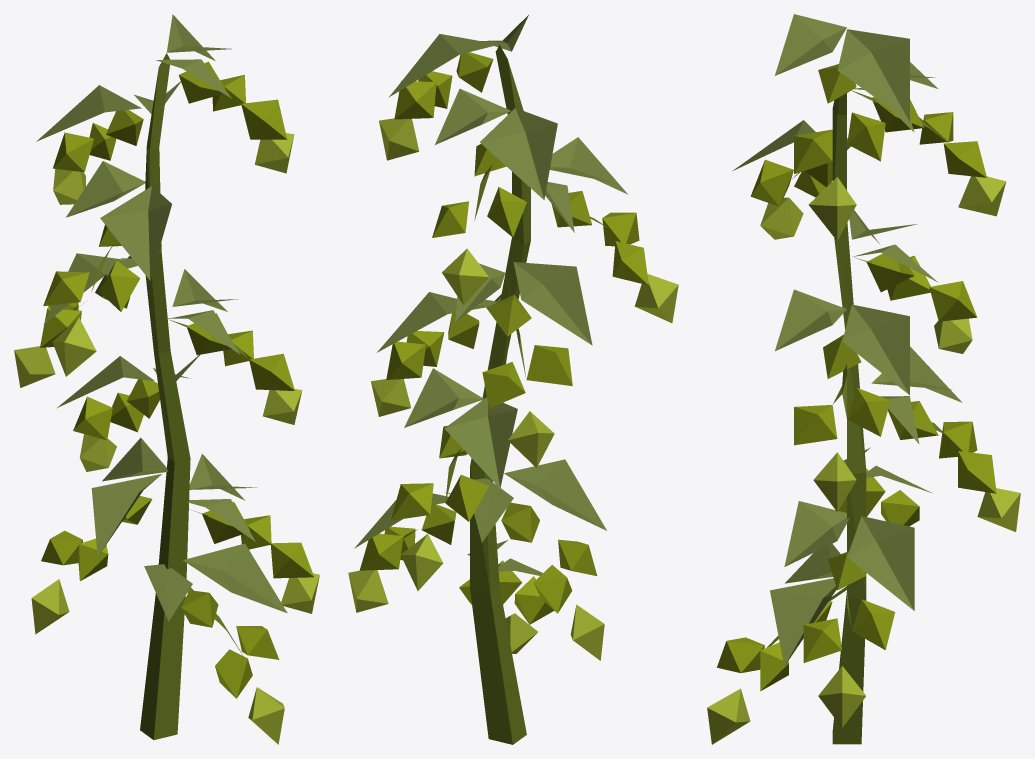
The model's file is hops.gltf.
3 renders of one model, left to right at view 1: azimuth 30°, elevation 25°; view 2: azimuth 150°, elevation 25°; view 3: azimuth 270°, elevation 25°, orthographic. The views are drawn at different scales.
Size of the model in its own units: 73 by 166 by 65.
Materials: 1 (1 with a texture image).
